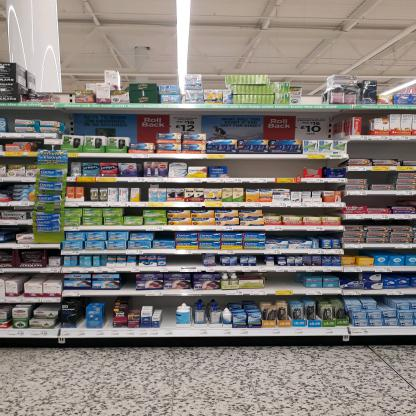Void: (206, 115, 334, 138), (225, 159, 294, 175), (356, 143, 415, 159), (71, 116, 120, 134), (265, 208, 327, 218), (346, 195, 402, 206), (268, 231, 334, 240), (131, 115, 153, 141), (163, 115, 196, 131), (158, 299, 175, 327), (271, 276, 301, 288), (167, 255, 201, 263), (123, 275, 138, 289), (371, 173, 387, 184), (144, 188, 150, 202), (127, 209, 141, 214)
